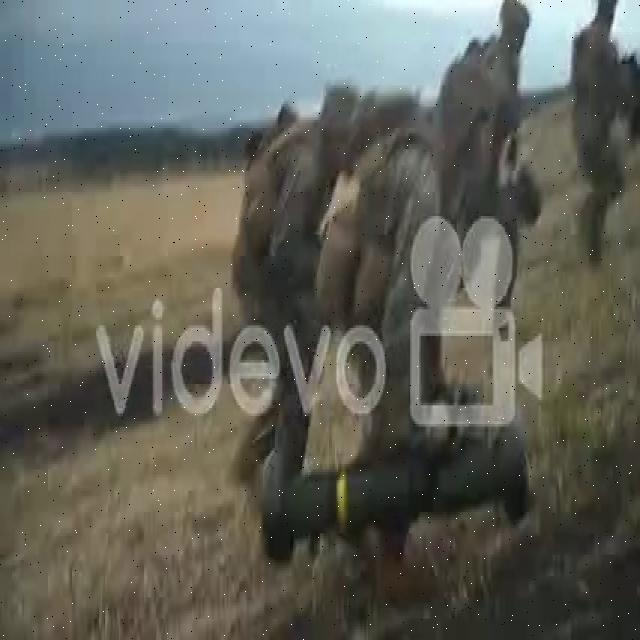bazooka: (259, 414, 532, 570)
